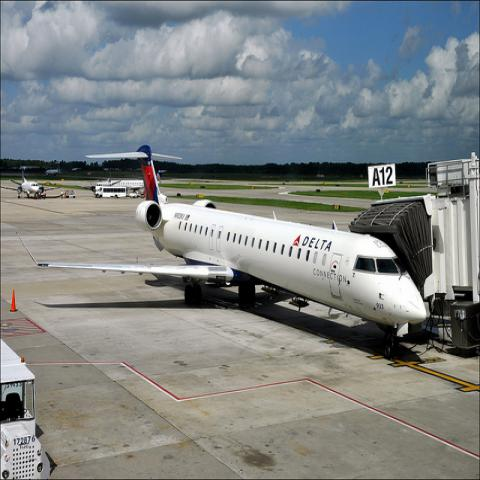bus: (92, 186, 126, 199)
truck: (3, 342, 52, 479)
